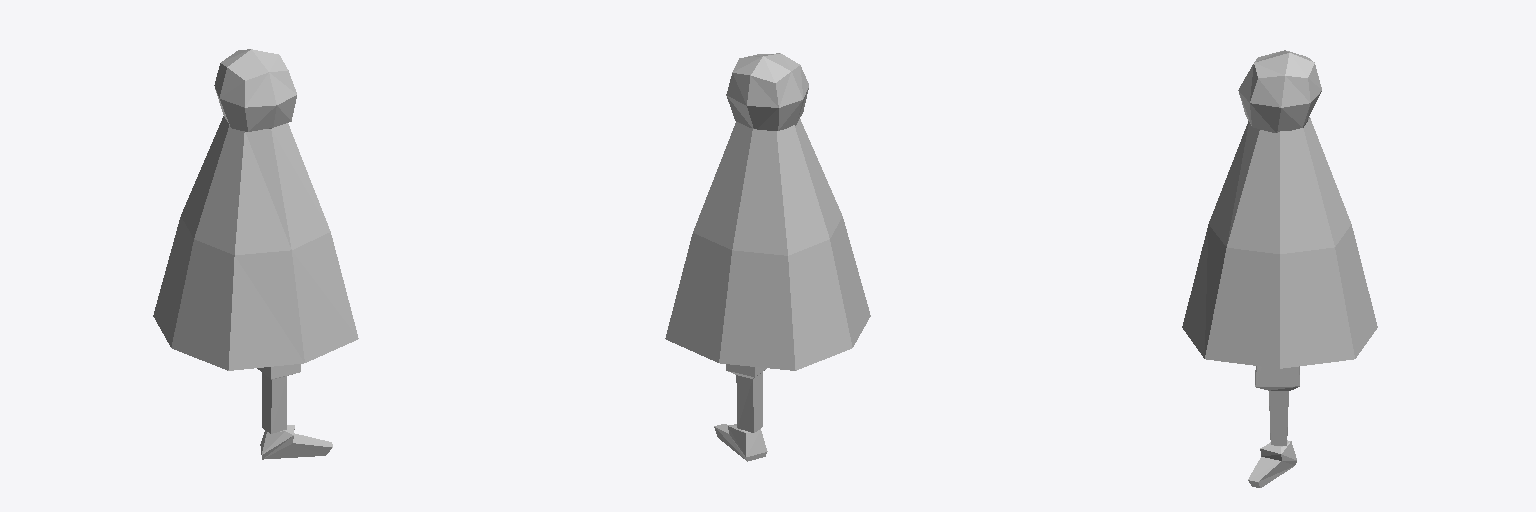
The model's file is dark_schippie_dues.obj.
3 renders of one model, left to right at view 1: azimuth 30°, elevation 25°; view 2: azimuth 150°, elevation 25°; view 3: azimuth 270°, elevation 25°, orthographic.
Parts seen in each view (by area): view 1: Unnamed; view 2: Unnamed; view 3: Unnamed.
Boxes of the visible parts, <box> form: Unnamed: <box>153,49,358,459</box>; Unnamed: <box>665,53,870,461</box>; Unnamed: <box>1182,50,1377,487</box>.
Bounding box in the file's own units: 13.48 × 30.87 × 13.48.